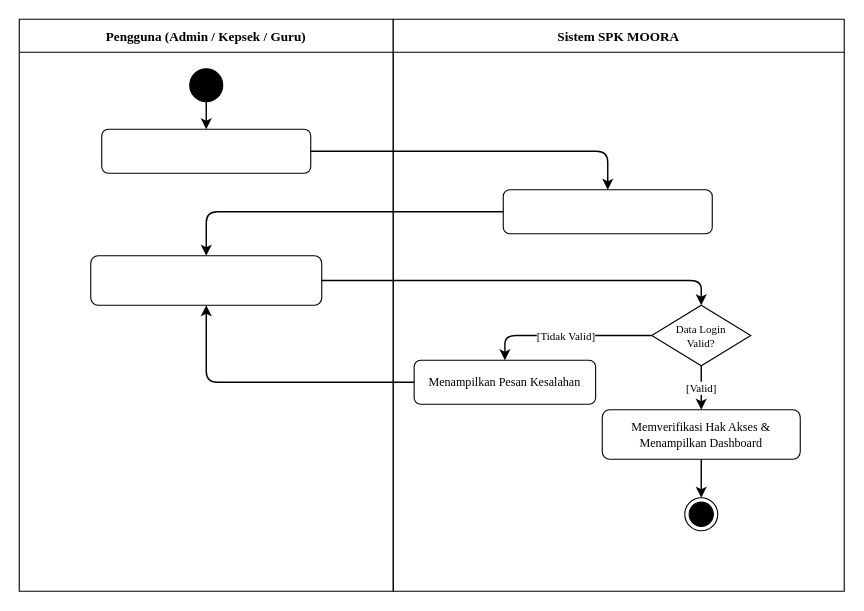
Image size: 864x611. Some labels were removed from this diagram. The shapes that lost their labels are listed below. From the top down, each one's centre as x and y in pixels, then its label:
At [206,150]: "Membuka Halaman Login".
At [607,211]: "Menampilkan Formulir Login".
At [206,280]: "Memasukkan Username & Password dan Mengklik Tombol Login".
